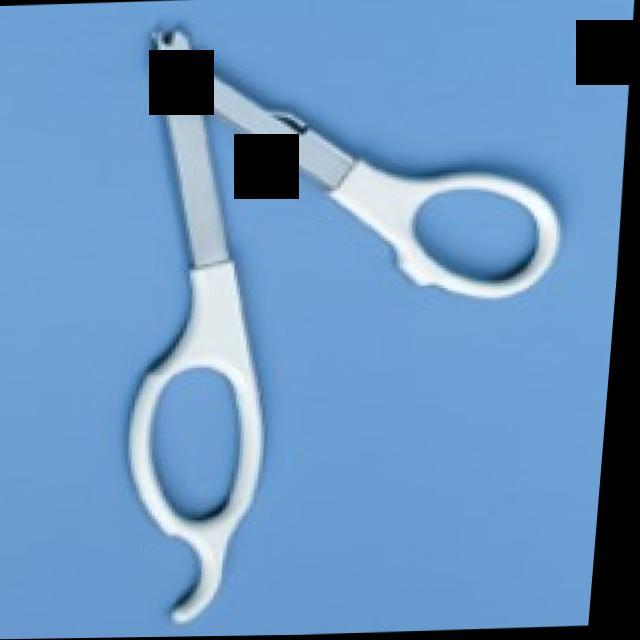Stapler Remover: (96, 12, 600, 630)
